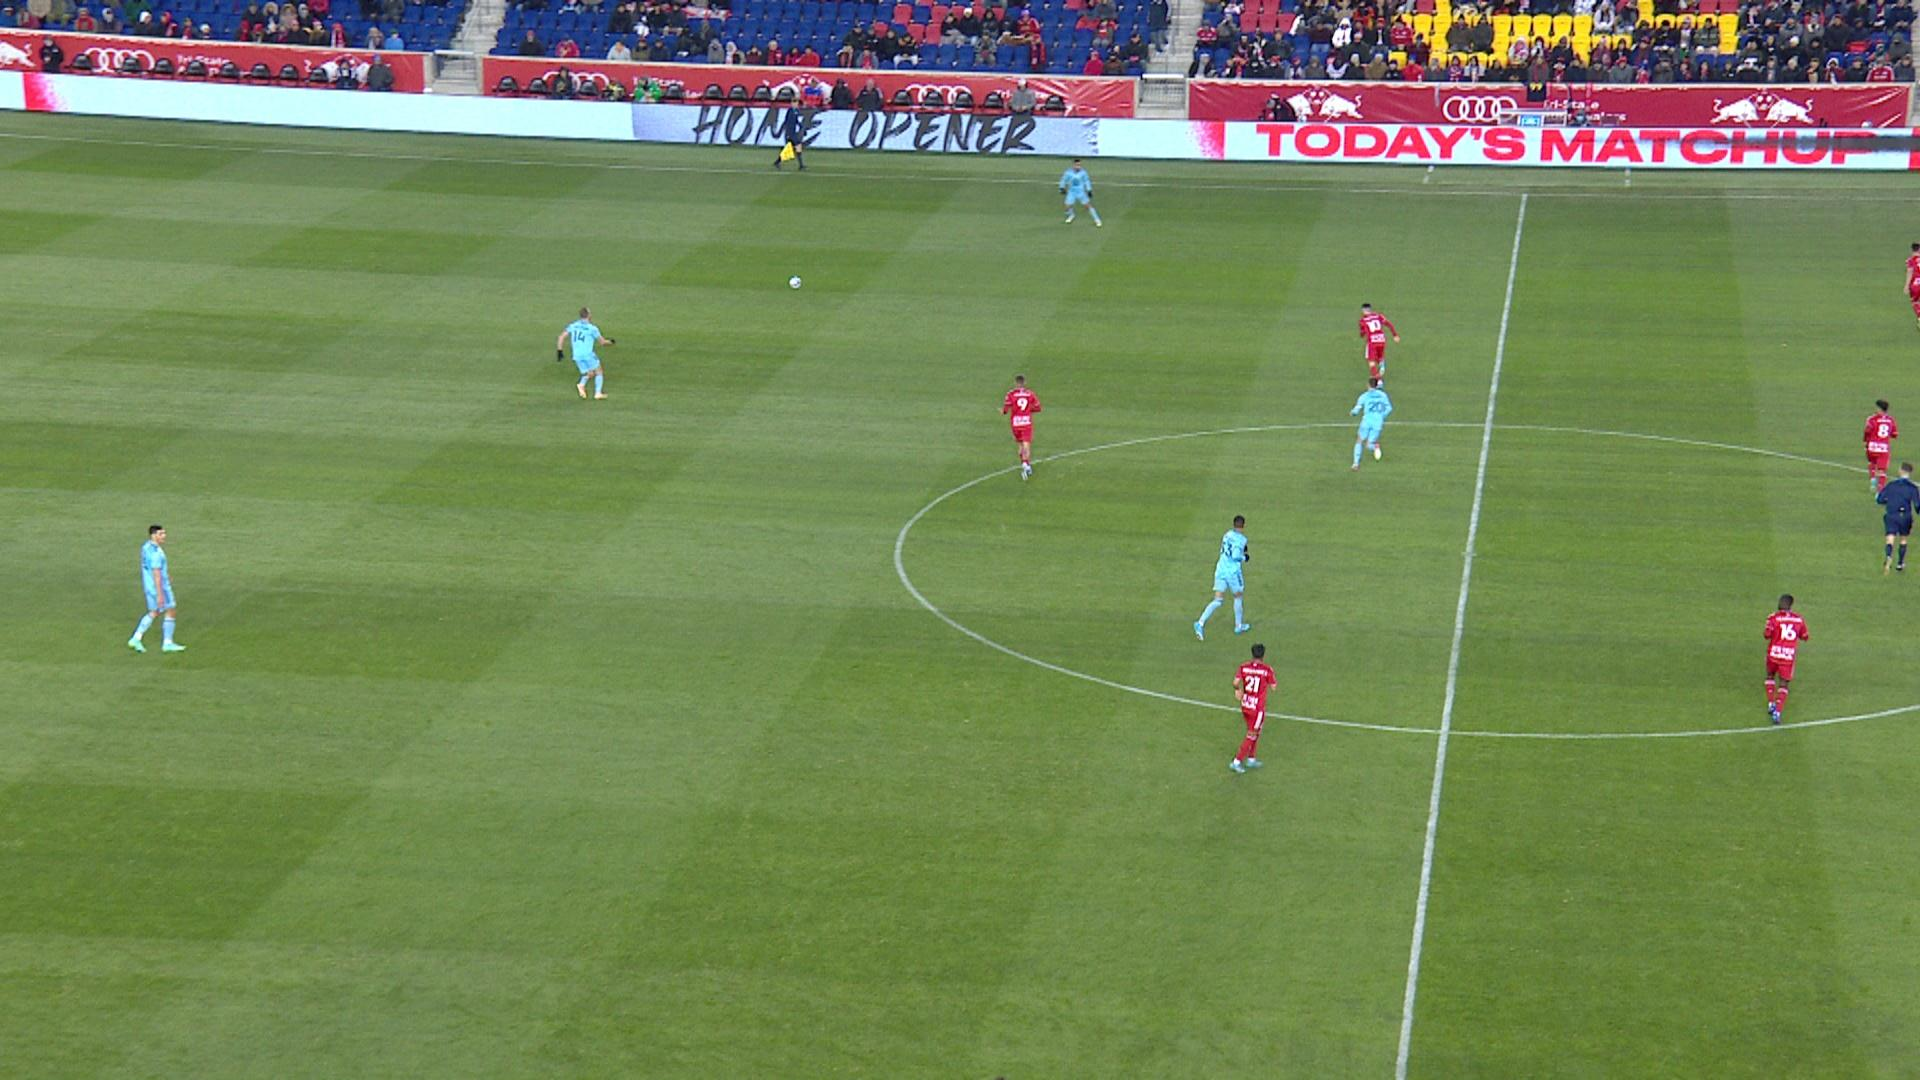football: (789, 276, 803, 290)
